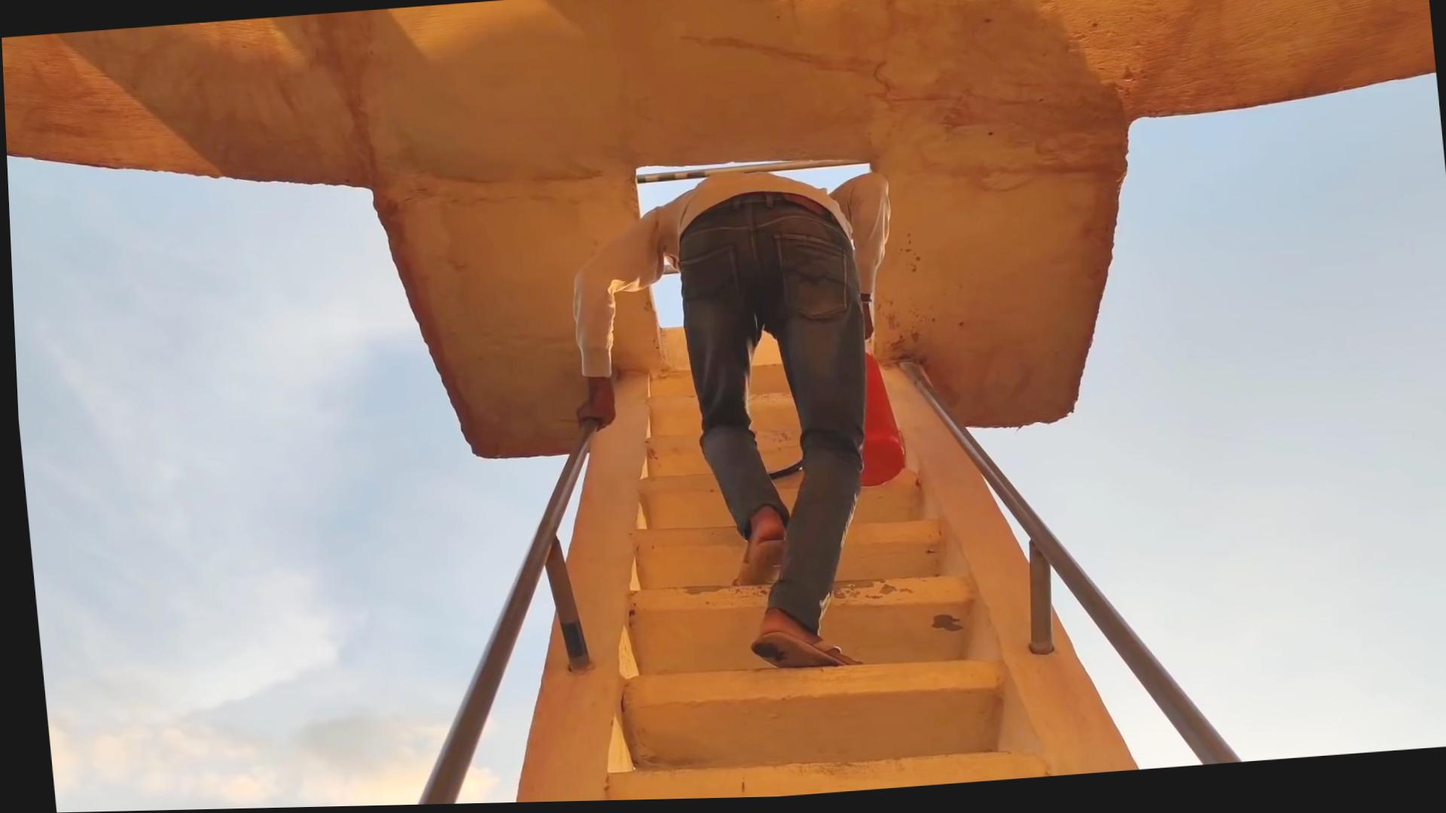FireExtinguisher: (828, 328, 917, 497)
not: (1042, 0, 1439, 166)
